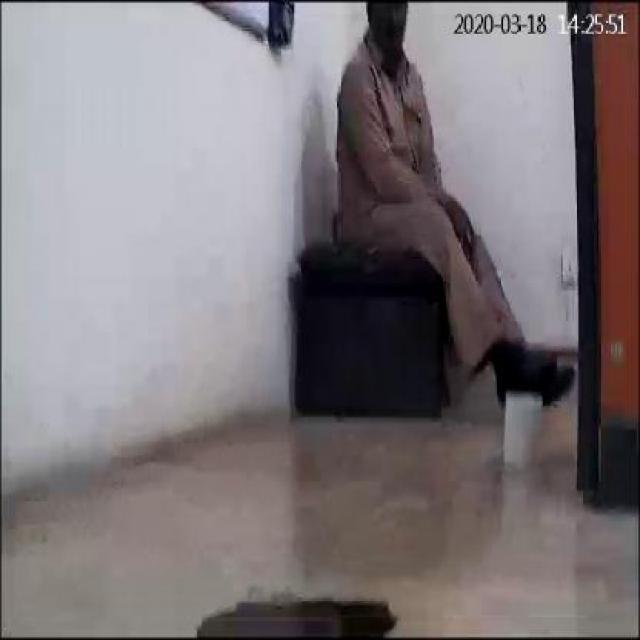spill: (188, 585, 392, 633)
